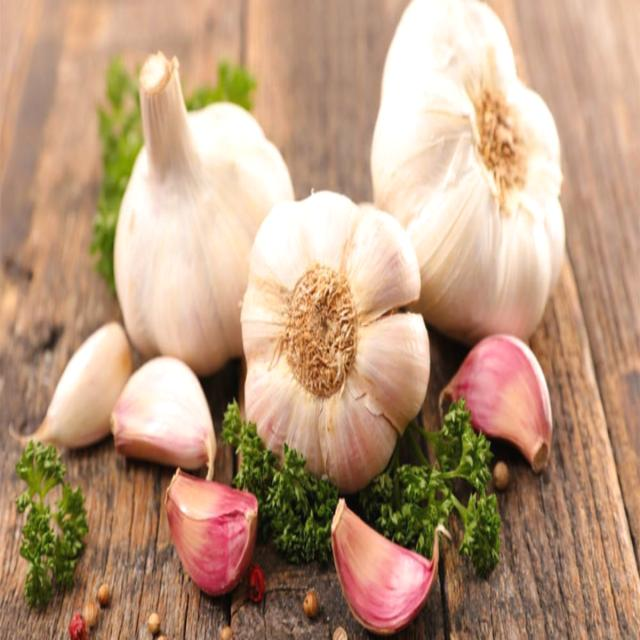garlic: (372, 1, 567, 335), (116, 60, 298, 378), (242, 200, 425, 489), (443, 338, 553, 476), (334, 505, 444, 640), (31, 323, 133, 454), (114, 357, 216, 486), (163, 471, 257, 597)
